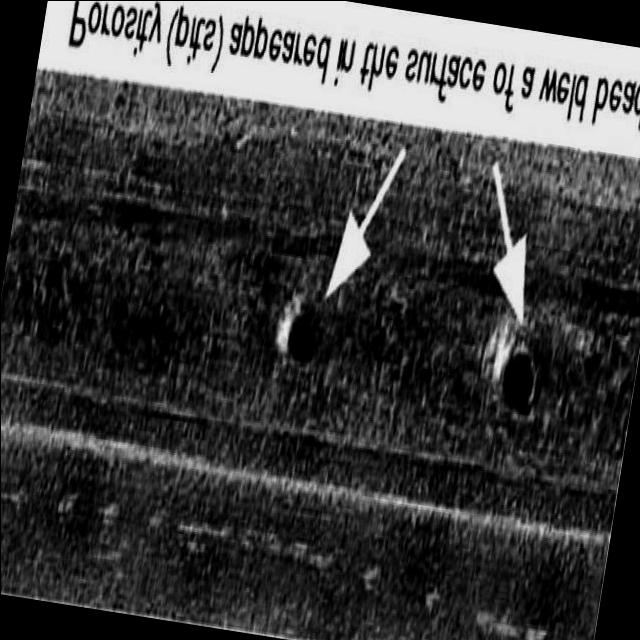defect: (268, 303, 331, 391), (496, 330, 541, 425)
